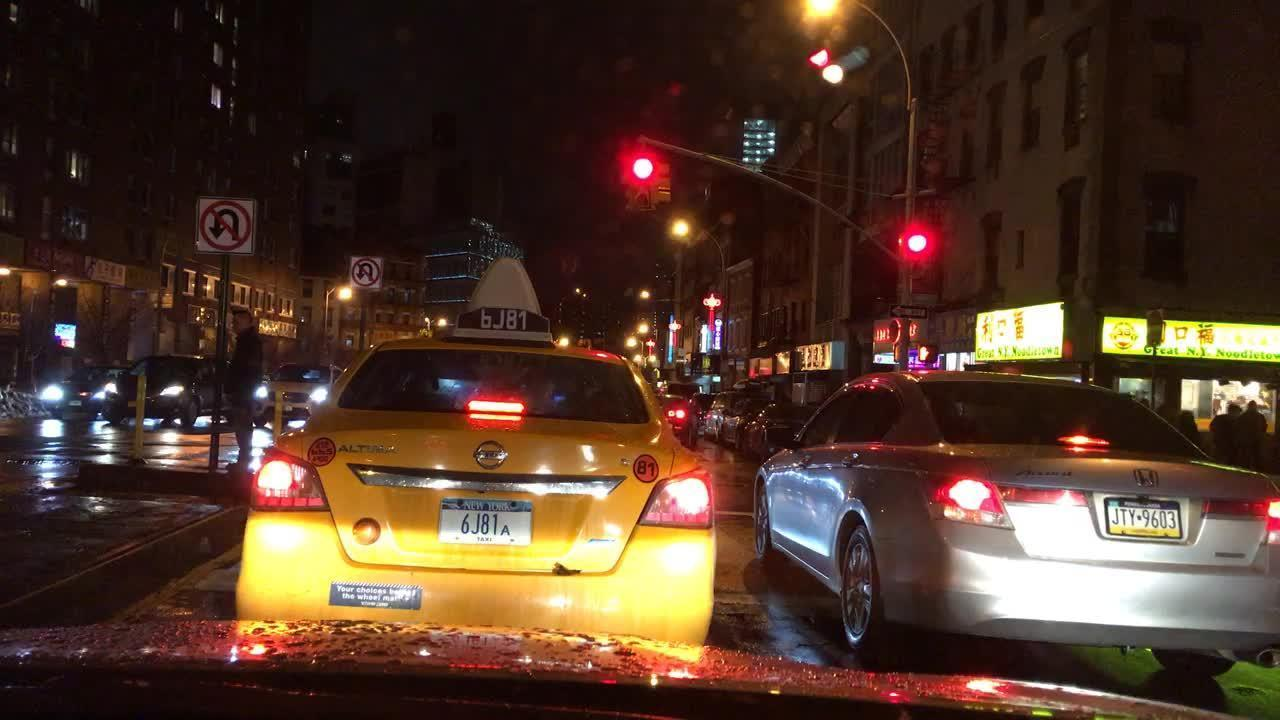Honda: (1130, 463, 1165, 495)
Nissan: (466, 436, 513, 476)
